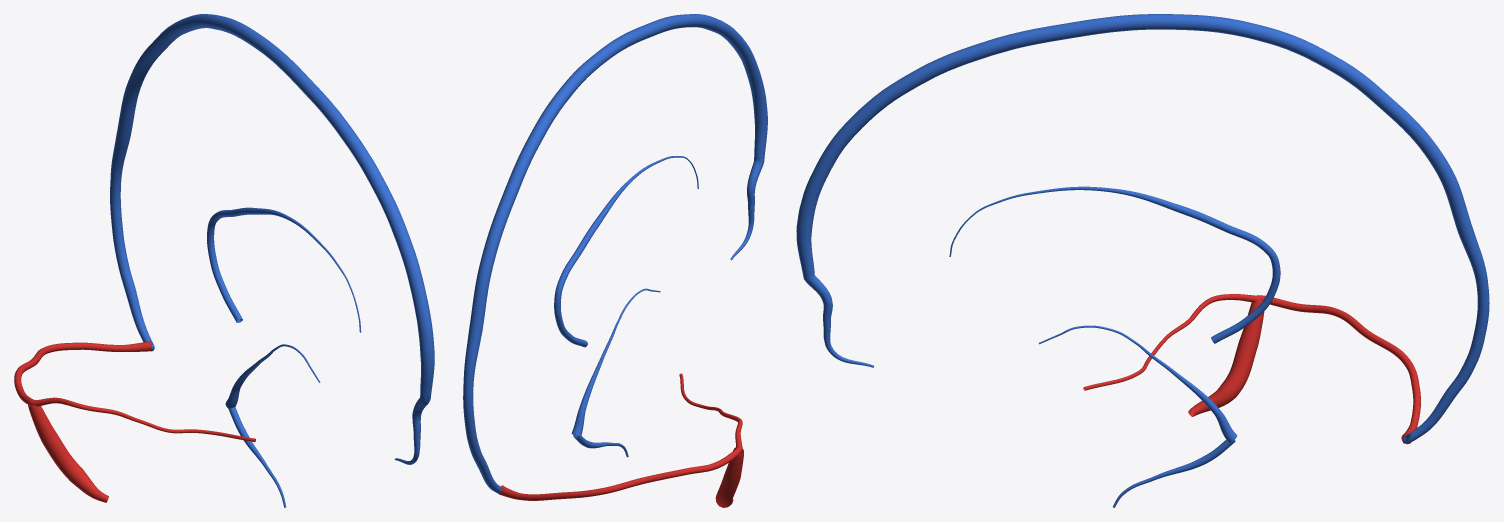
Rendered from circulatorio-sigmoid-sinus-r.glb.
3 views of the same model, side by side, from view 1: azimuth 30°, elevation 25°; view 2: azimuth 150°, elevation 25°; view 3: azimuth 270°, elevation 25° (orthographic). The views are drawn at different scales.
Visible parts, largest first — view 1: Superior sagittal sinus, Sigmoid sinus.r, Inferior sagittal sinus, Transverse sinus.r, Superior petrosal sinus.r, Straight sinus, Occipital sinus; view 2: Superior sagittal sinus, Transverse sinus.r, Inferior sagittal sinus, Sigmoid sinus.r, Straight sinus, Superior petrosal sinus.r; view 3: Superior sagittal sinus, Inferior sagittal sinus, Sigmoid sinus.r, Transverse sinus.r, Straight sinus, Superior petrosal sinus.r, Occipital sinus.
Part boxes in pixels (box(x1,y1,x2,y2)): Superior sagittal sinus: box(110, 14, 434, 464); Sigmoid sinus.r: box(28, 404, 108, 502); Inferior sagittal sinus: box(207, 207, 361, 332); Transverse sinus.r: box(14, 341, 151, 405); Superior petrosal sinus.r: box(30, 397, 255, 442); Straight sinus: box(225, 344, 320, 408); Occipital sinus: box(228, 407, 286, 507); Superior sagittal sinus: box(463, 14, 767, 493); Transverse sinus.r: box(499, 447, 741, 500); Inferior sagittal sinus: box(554, 156, 698, 347); Sigmoid sinus.r: box(715, 447, 743, 507); Straight sinus: box(571, 288, 660, 436); Superior petrosal sinus.r: box(679, 373, 742, 450); Superior sagittal sinus: box(796, 14, 1489, 443); Inferior sagittal sinus: box(949, 186, 1280, 343); Sigmoid sinus.r: box(1188, 299, 1264, 416); Transverse sinus.r: box(1259, 295, 1420, 444); Straight sinus: box(1038, 325, 1237, 442); Superior petrosal sinus.r: box(1083, 294, 1259, 390); Occipital sinus: box(1113, 440, 1235, 507).
Size of the model in its own units: 0.063 by 0.1391 by 0.1772.
